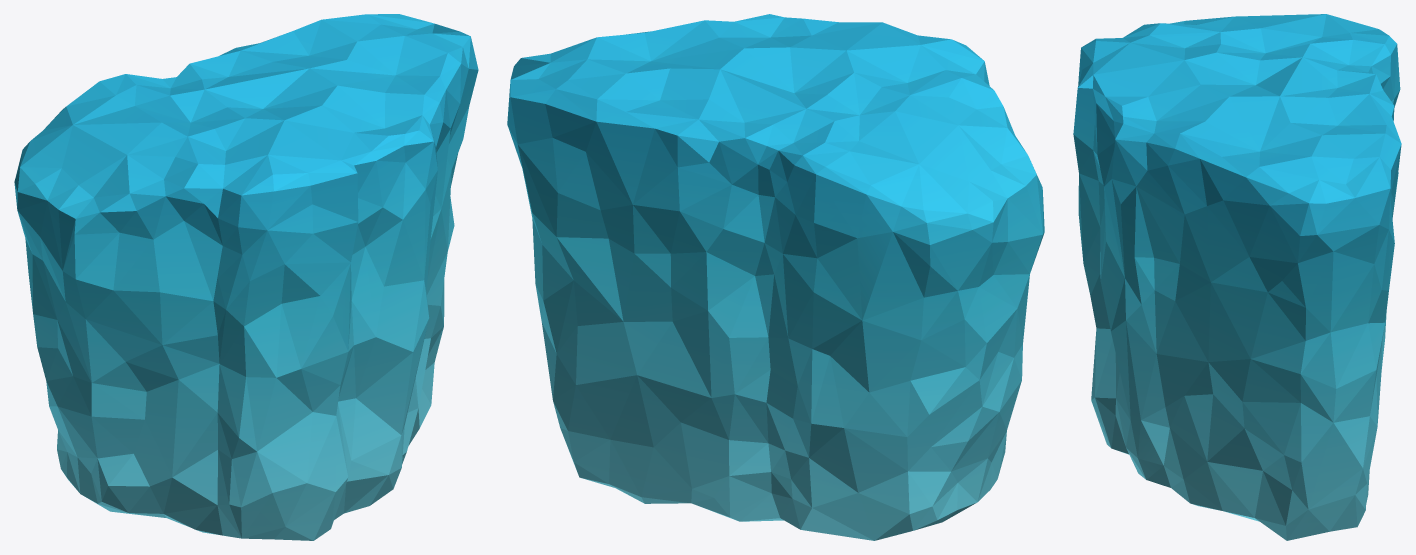
Rendered from ice_015.fbx.
3 renders of one model, left to right at view 1: azimuth 30°, elevation 25°; view 2: azimuth 150°, elevation 25°; view 3: azimuth 270°, elevation 25°, orthographic. The views are drawn at different scales.
Parts seen in each view (by area): view 1: ice_015; view 2: ice_015; view 3: ice_015.
Part boxes in pixels (left/top/right/bottom): ice_015: left=14, top=14, right=478, bottom=540; ice_015: left=507, top=14, right=1044, bottom=540; ice_015: left=1073, top=14, right=1401, bottom=540.
Bounding box in the file's own units: 383 × 238 × 321.
